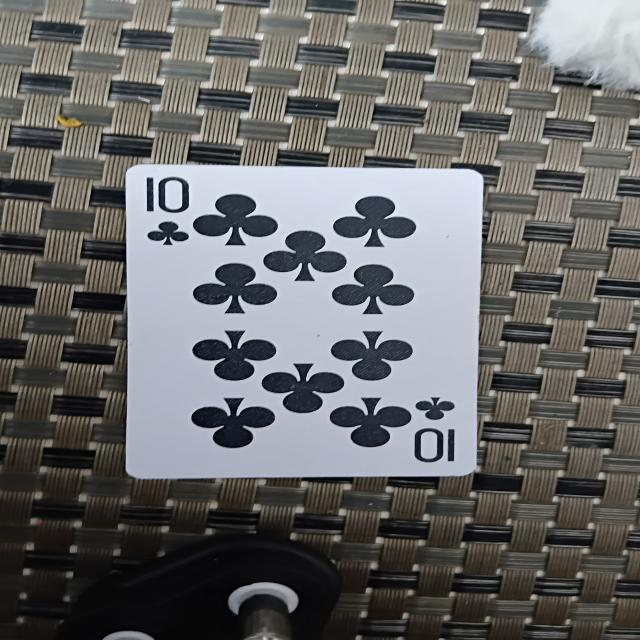10C: (131, 165, 482, 475)
